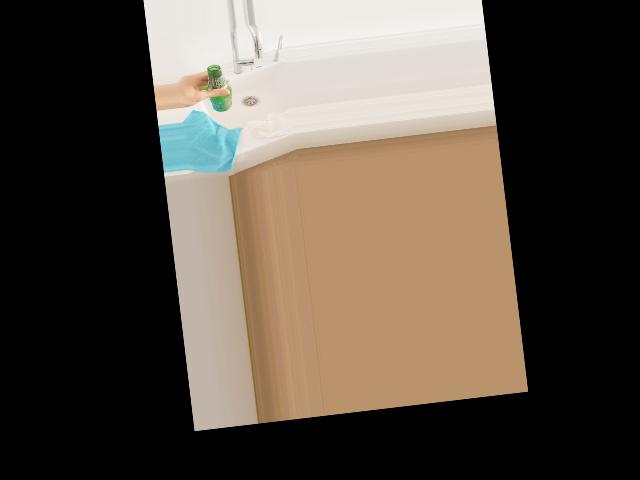beer: (203, 63, 234, 113)
